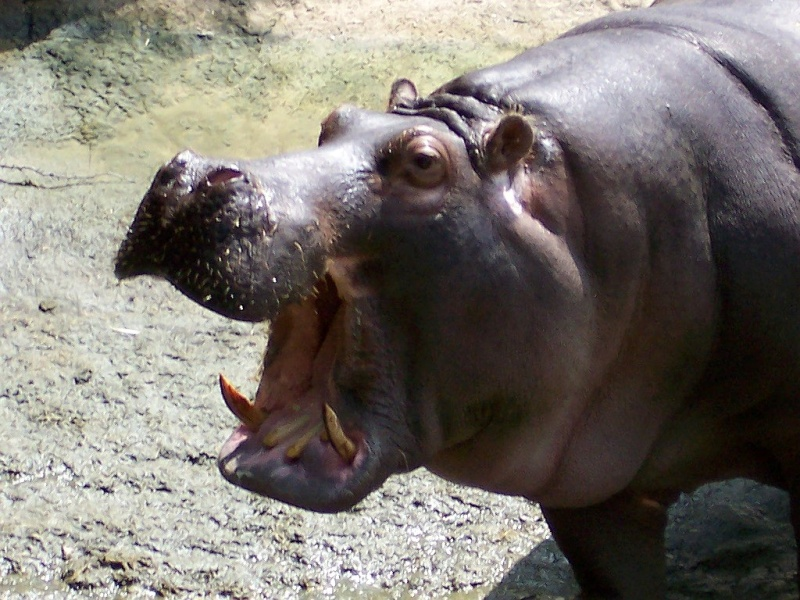hipopotamo: (117, 3, 797, 594)
